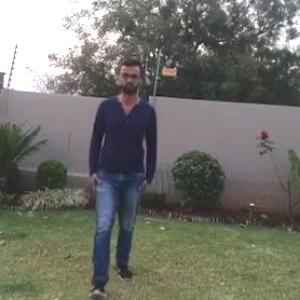follow: (87, 65, 146, 279)
